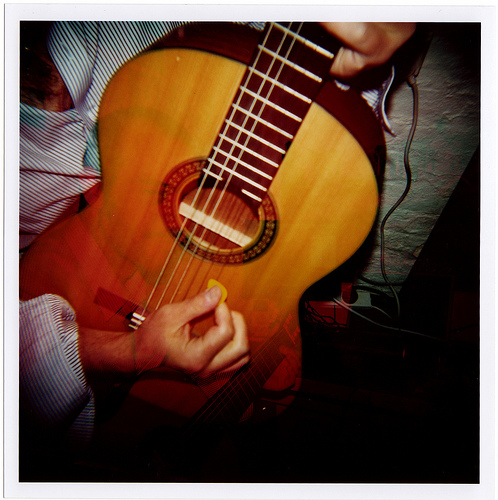guitar: (12, 23, 391, 430)
